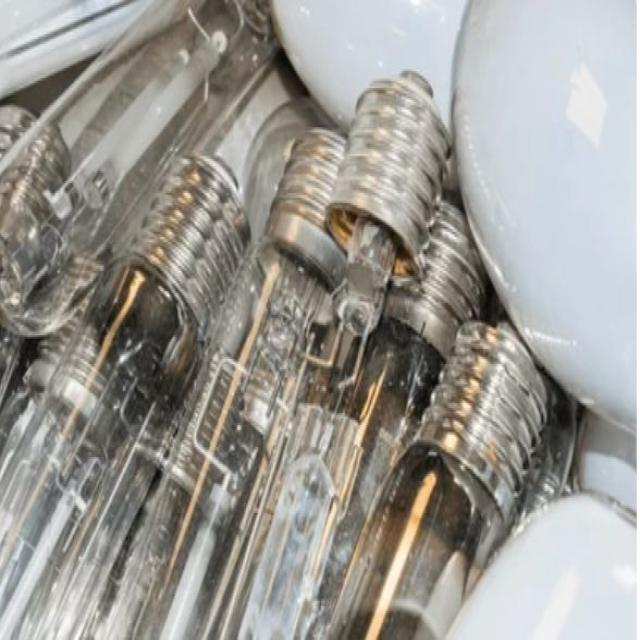electronic: (0, 0, 636, 638), (448, 0, 636, 433), (427, 488, 636, 638), (265, 0, 479, 139), (0, 102, 101, 338)
